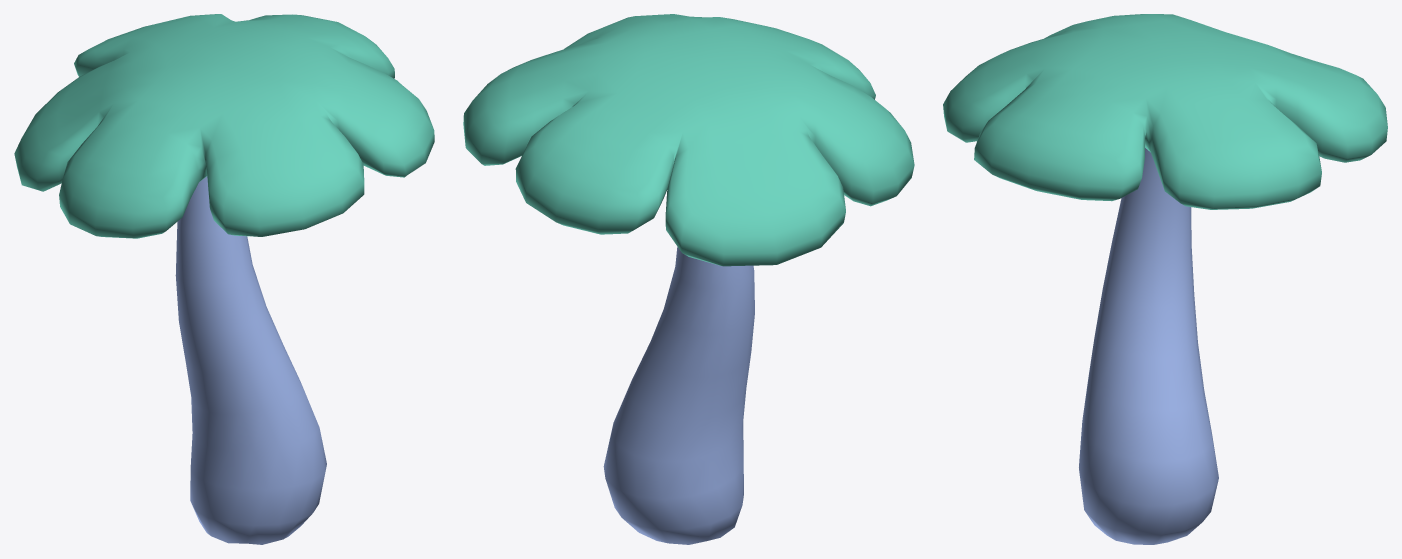
File: Shroom_A_01.fbx
3 views of the same model, side by side, from view 1: azimuth 30°, elevation 25°; view 2: azimuth 150°, elevation 25°; view 3: azimuth 270°, elevation 25° (orthographic).
Visible parts, largest first — view 1: Shroom_A_01_LOD0; view 2: Shroom_A_01_LOD0; view 3: Shroom_A_01_LOD0.
Part boxes in pixels (x1,y1,x2,y2): Shroom_A_01_LOD0: (14, 14, 434, 544); Shroom_A_01_LOD0: (463, 14, 914, 544); Shroom_A_01_LOD0: (943, 14, 1387, 544).
Size of what is drawn, in the model's own units: 643 by 807 by 670.
